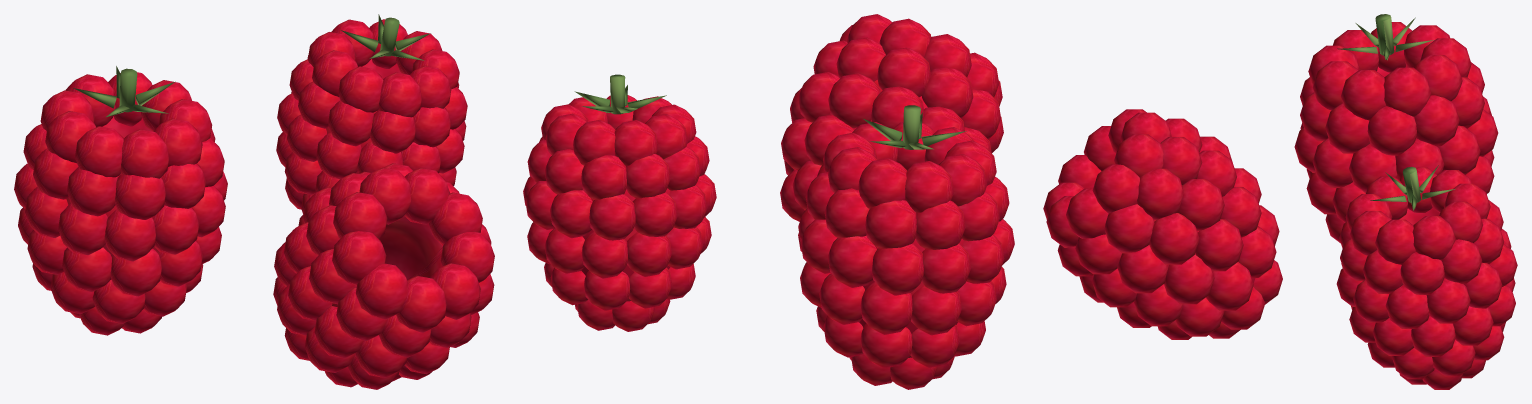
File: NP_Raspberry_Harvest.fbx
The picture shows the model from 3 angles, left to right: view 1: azimuth 30°, elevation 25°; view 2: azimuth 150°, elevation 25°; view 3: azimuth 270°, elevation 25°; orthographic projection. The views are drawn at different scales.
Visible parts, largest first — view 1: NP_Raspberry_Harvest; view 2: NP_Raspberry_Harvest; view 3: NP_Raspberry_Harvest.
Boxes of the visible parts, x1,y1,x2,y2 form: NP_Raspberry_Harvest: [14, 14, 494, 389]; NP_Raspberry_Harvest: [523, 14, 1014, 389]; NP_Raspberry_Harvest: [1043, 14, 1517, 389].
Size of the model in its own units: 46.44 by 27.01 by 45.76.
1 material, 1 textured.
